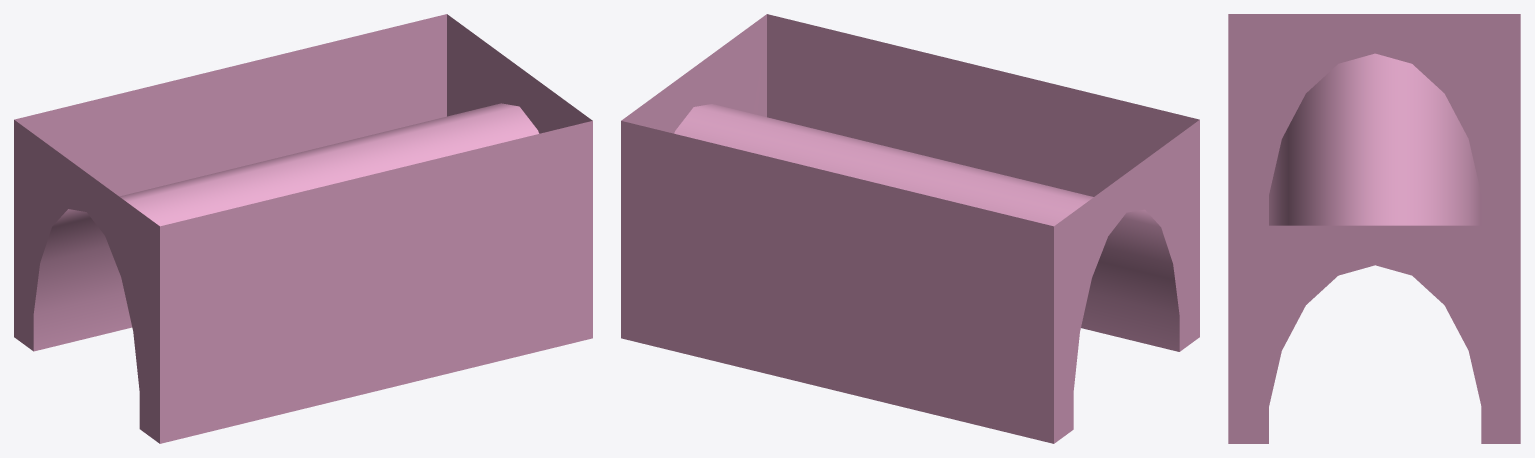
Rendered from desenyol.fbx.
3 renders of one model, left to right at view 1: azimuth 30°, elevation 25°; view 2: azimuth 150°, elevation 25°; view 3: azimuth 270°, elevation 25°, orthographic.
Parts seen in each view (by area): view 1: Box001; view 2: Box001; view 3: Box001.
Boxes of the visible parts, x1=… form: Box001: x1=14, y1=14, x2=592, y2=443; Box001: x1=621, y1=14, x2=1199, y2=443; Box001: x1=1228, y1=14, x2=1520, y2=443.
Size of the model in its own units: 183 by 87.72 by 107.
